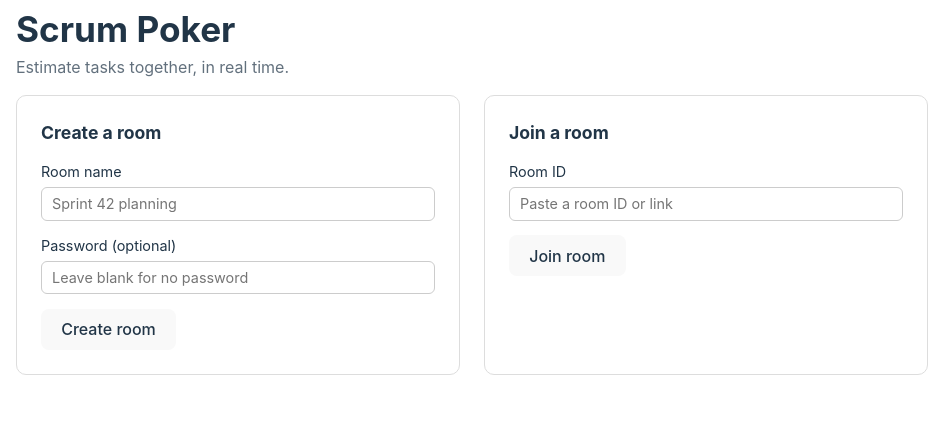
Home › shows an error and does not create a room when the name is blank
The image size is (945, 433).
Click the button "Create room" at (108, 329), box [41,309,176,350]
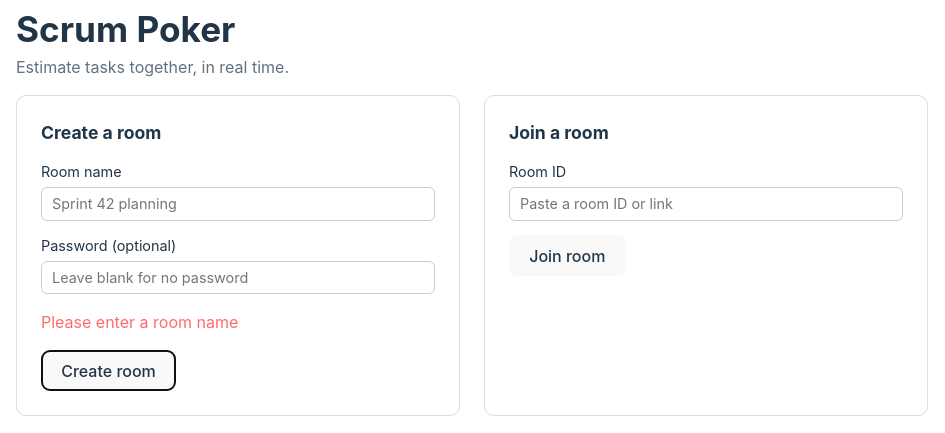
Result: the text "Please enter a room name" is shown at [41,312,238,332]
